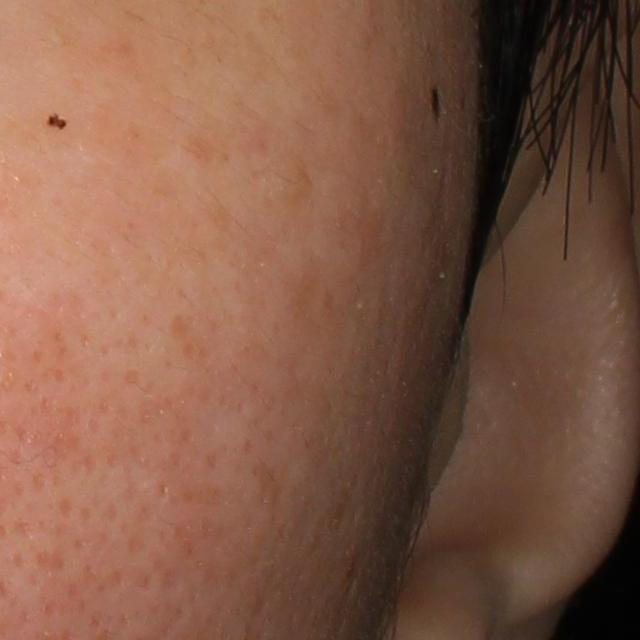nevus: (42, 109, 72, 130), (428, 84, 445, 119)
